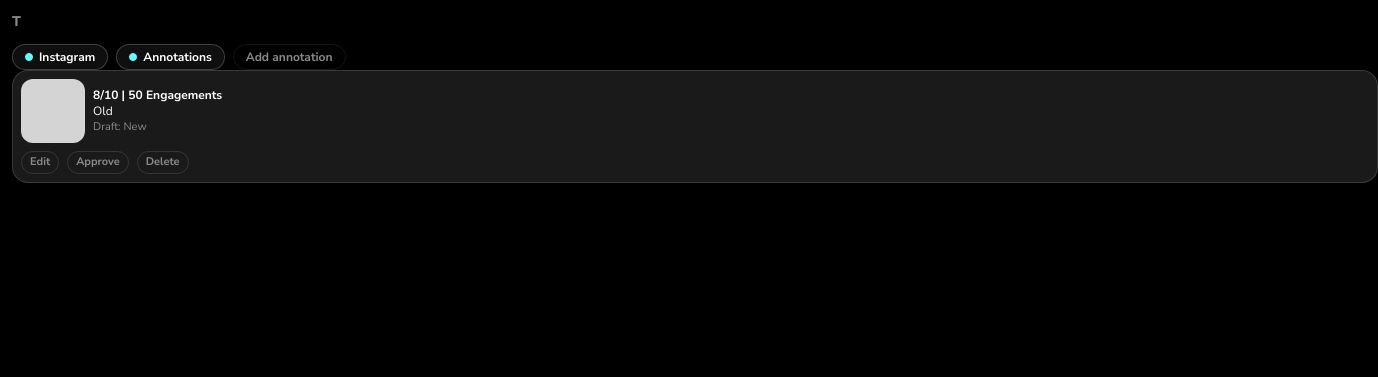
Test: the Add annotation panel: pick a post by its picture, or a day from the Day list (Phase 2b) › Edit on a card opens the panel fixed to that day: its posts with the draft's picks, and the draft text
Step 1. Click the button with aria-label "Edit note" → (40, 162), box [21,151,59,174]
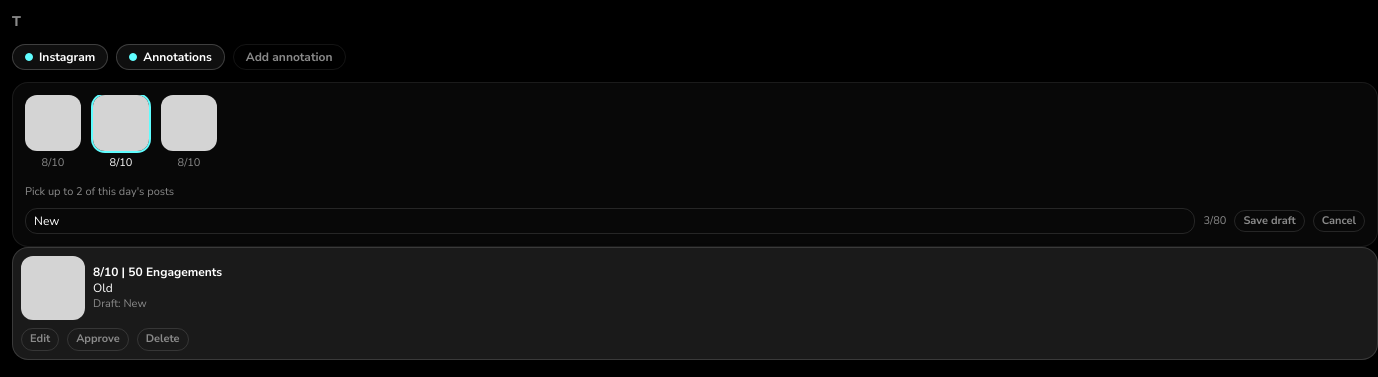
Check: the field named "Note text" holds "New", box [25,208,1196,234]
